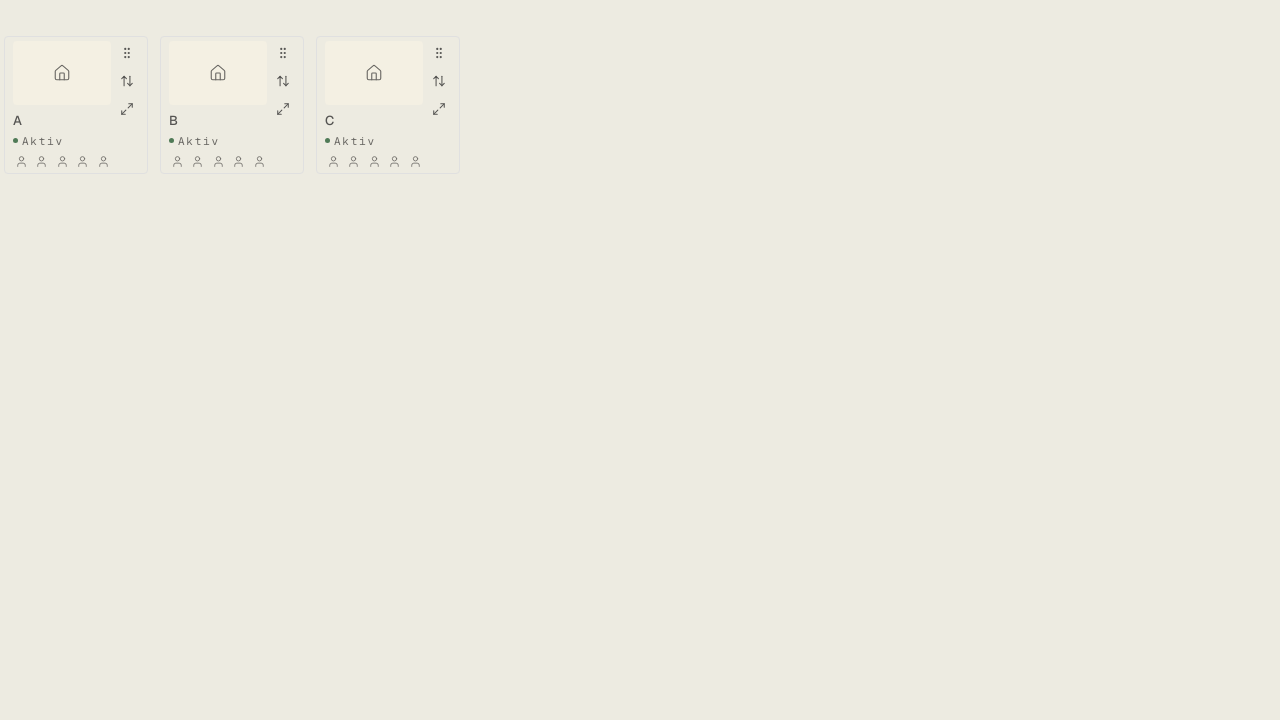
Test: ListingMatrix › restores the previous order when the position save fails
Click the button named "Position von A ändern" at (127, 81), box [115,69,139,93]
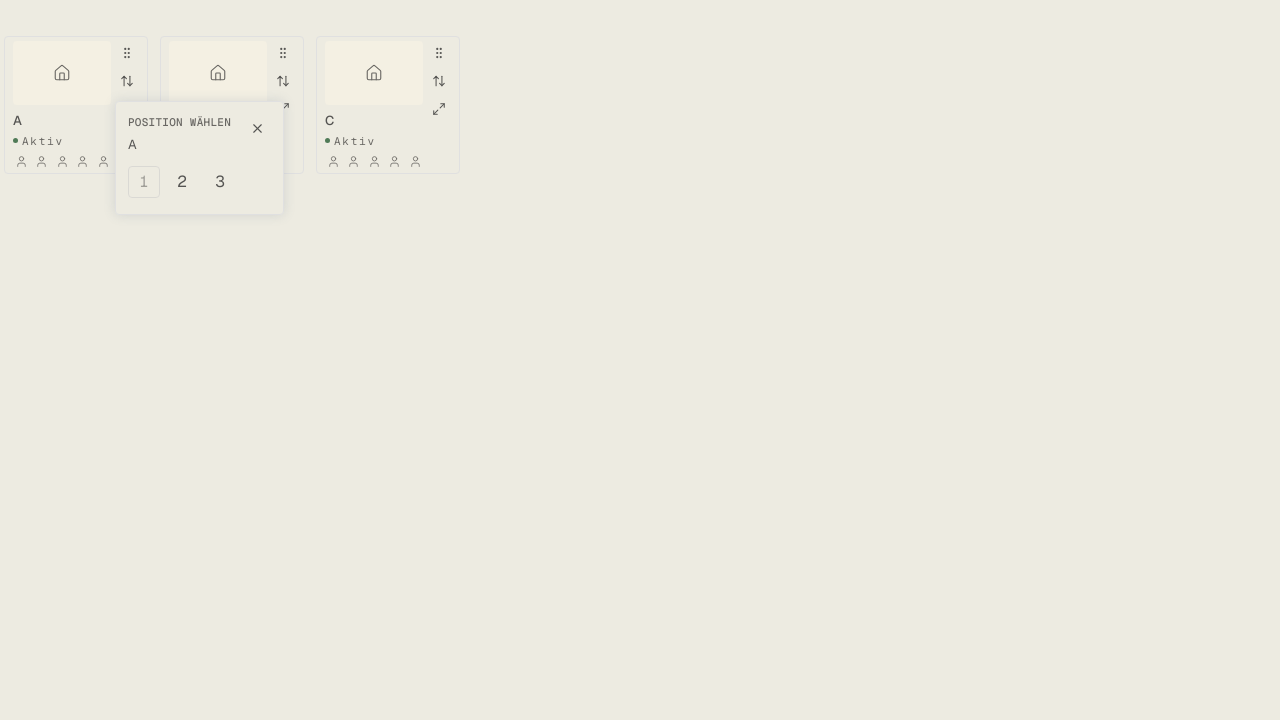
Click the button named "Auf Position 3 verschieben" at (220, 182), box [204,166,236,198]
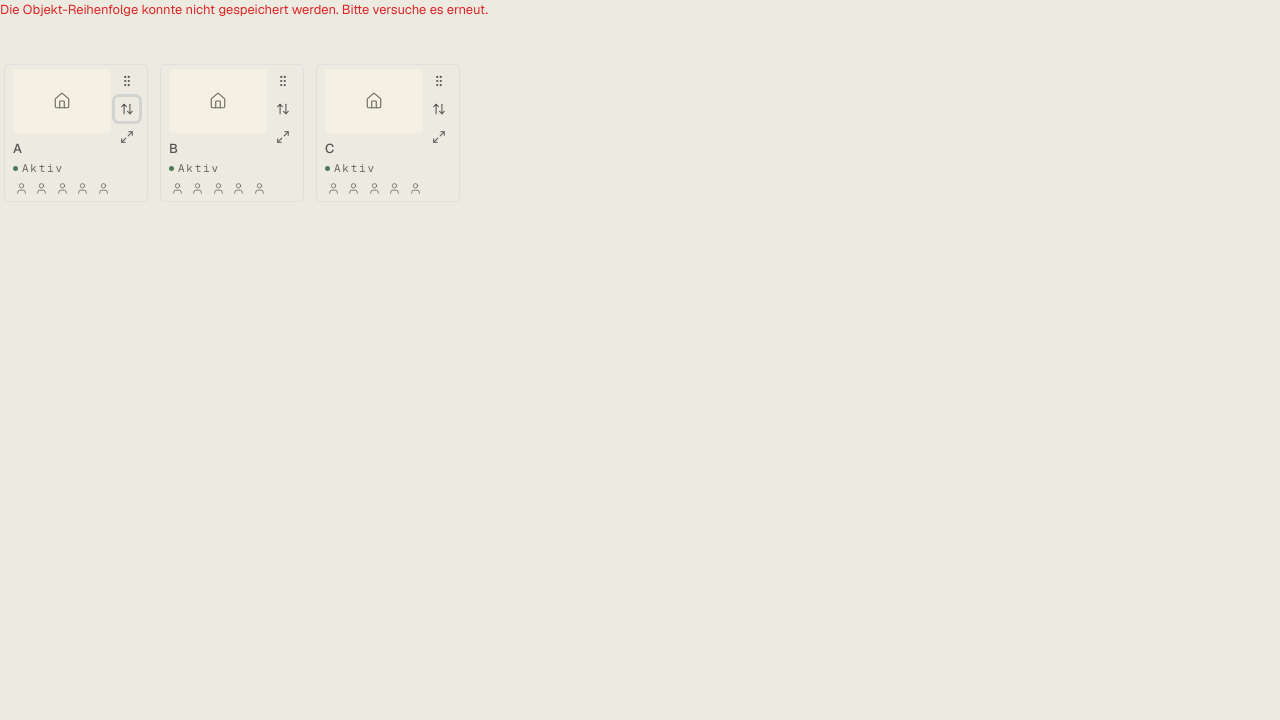
Now the message shows "konnte nicht gespeichert werden", box [0,1,488,18]
